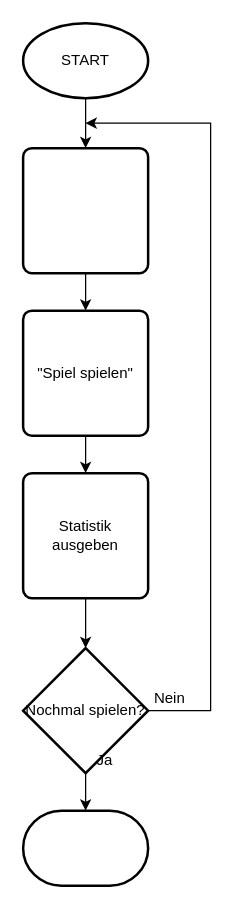
The diagram is 243 pixels wide and 908 high, and some of its shapes have lost their labels. Here are the shapes that lost their labels. From the top down, the centre of each, then its label:
pixel 85 210: Variablen definieren
pixel 85 847: ENDE
